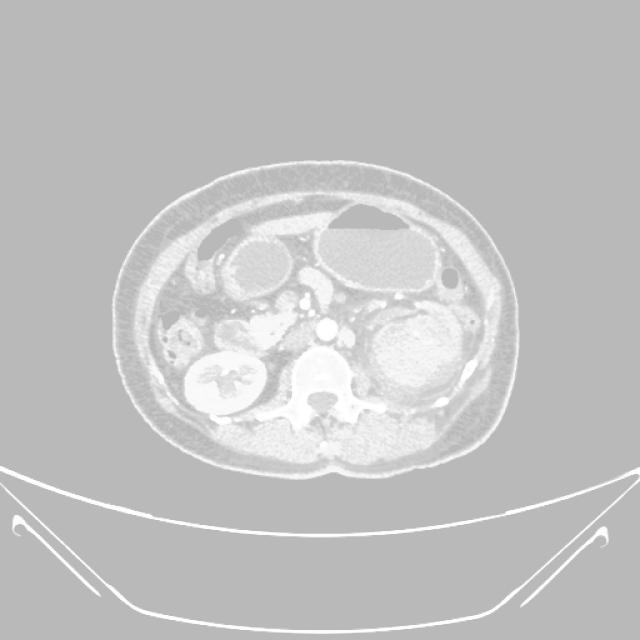TUMOR: (132, 188, 498, 403)
